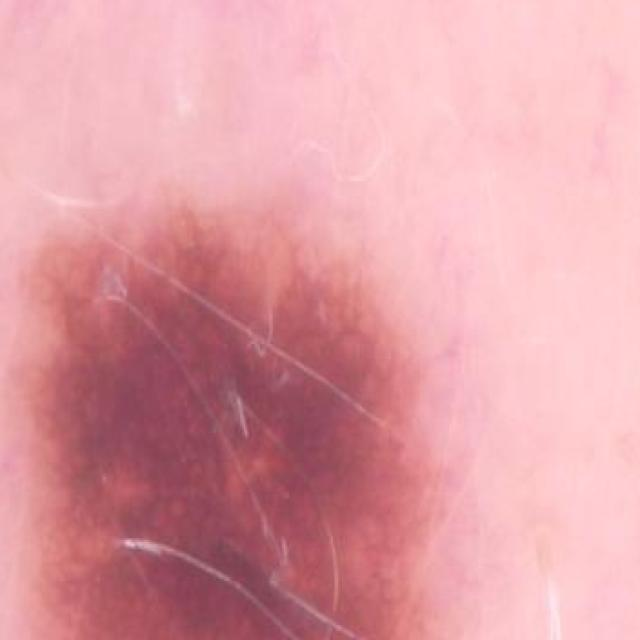NV: (0, 138, 460, 640)
